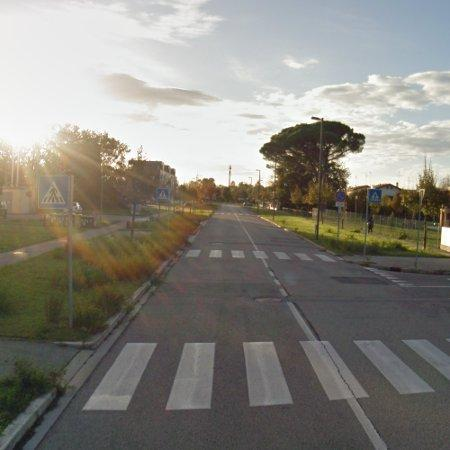crosswalks: (78, 340, 450, 411), (185, 248, 335, 262)
